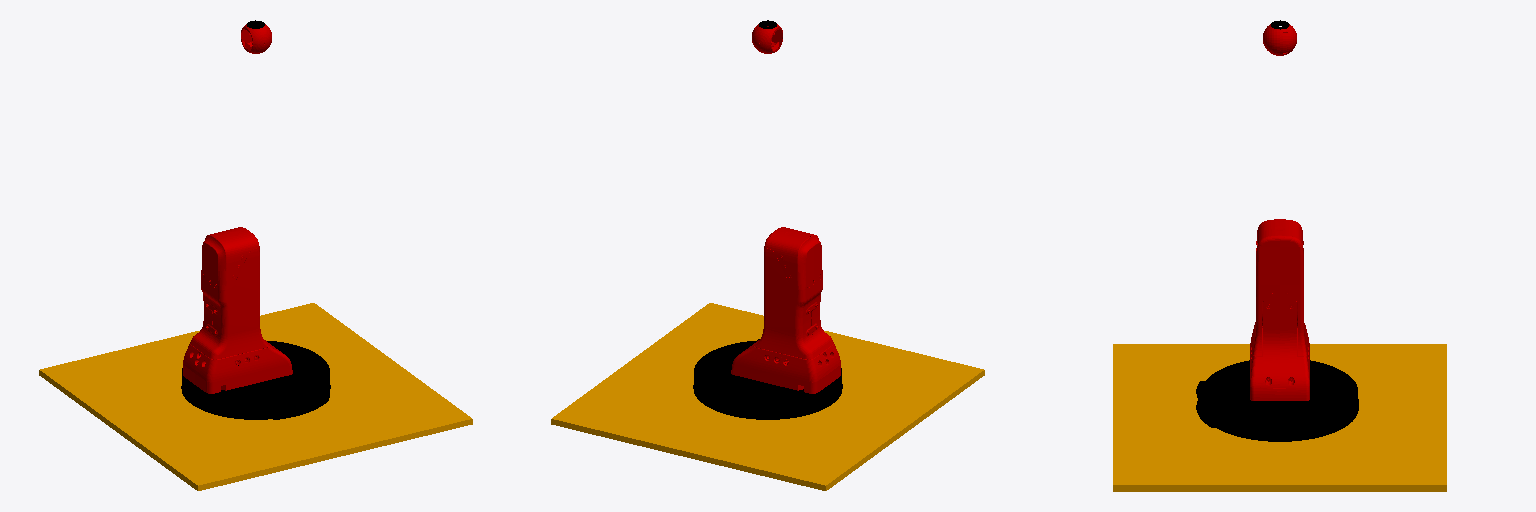
robot.urdf — brabo:
<?xml version="1.0" ?>
<!-- =================================================================================== -->
<!-- |    This document was autogenerated by xacro from brabo.xacro                    | -->
<!-- |    EDITING THIS FILE BY HAND IS NOT RECOMMENDED                                 | -->
<!-- =================================================================================== -->
<robot name="brabo" xmlns:xacro="http://www.ros.org/wiki/xacro">
  <!-- Include materials -->
  <material name="Black">
    <color rgba="0.0 0.0 0.0 1.0"/>
  </material>
  <material name="Red">
    <color rgba="0.8 0.0 0.0 1.0"/>
  </material>
  <material name="White">
    <color rgba="1.0 1.0 1.0 1.0"/>
  </material>
  <!-- BOTTOM FIXED LINK 
This link is the base of the arm in which arm is placed 

-->
  <!-- ///////////////////////////////////////////////////////////////////////////////////////////////////////////////////// -->
  <joint name="bottom_joint" type="fixed">
    <origin rpy="0 0 0" xyz="0 0 0"/>
    <parent link="base_link"/>
    <child link="bottom_link"/>
  </joint>
  <link name="bottom_link">
    <visual>
      <origin rpy="0 0 0" xyz=" 0 0 -0.04"/>
      <geometry>
        <box size="1 1 0.02"/>
      </geometry>
      <material name="Brown"/>
    </visual>
    <collision>
      <origin rpy="0 0 0" xyz=" 0 0 -0.04"/>
      <geometry>
        <box size="1 1 0.02"/>
      </geometry>
    </collision>
    &gt;

  
  </link>
  <gazebo reference="bottom_link">
    <material>Gazebo/White</material>
  </gazebo>
  <!-- ///////////////////////////////////////////////////////////////////////////////////////////////////////////////////// -->
  <!-- BASE LINK -->
  <link name="base_link">
    <visual>
      <origin rpy="0 0 0" xyz="0 0 0"/>
      <!-- rotate PI/2 -->
      <geometry>
        <mesh filename="package://brabo_description/meshes/visual/base_link.dae" scale="0.001 0.001 0.001"/>
      </geometry>
      <material name="Black"/>
    </visual>
    <collision>
      <origin rpy="0 0 0" xyz="0 0 .025"/>
      <!-- rotate PI/2 -->
      <geometry>
        <cylinder length=".04" radius=".300"/>
      </geometry>
    </collision>
    &gt;
	
    <inertial>
      <mass value="1"/>
      <inertia ixx="1.0" ixy="0.0" ixz="0.0" iyy="0.5" iyz="0.0" izz="1.0"/>
    </inertial>
  </link>
  <gazebo reference="base_link">
    <material>Gazebo/White</material>
  </gazebo>
  <joint name="link_1_joint" type="revolute">
    <parent link="base_link"/>
    <child link="link_1"/>
    <origin rpy="0 0 0" xyz="0 0 0"/>
    <axis xyz="0 0 1"/>
    <limit effort="300" lower="-2.96705722222" upper="2.96705722222" velocity="1"/>
    <dynamics damping="50" friction="1"/>
  </joint>
  <!-- ///////////////////////////////////////////////////////////////////////////////////////////////////////////////////// -->
  <!-- LINK 1-->
  <link name="link_1">
    <visual>
      <origin rpy="0 0 0" xyz="0 0 0"/>
      <geometry>
        <mesh filename="package://brabo_description/meshes/visual/Link_01.dae" scale="0.001 0.001 0.001"/>
      </geometry>
      <material name="Red"/>
    </visual>
    <collision>
      <origin rpy="0 0 0" xyz="0 0 0"/>
      <geometry>
        <mesh filename="package://brabo_description/meshes/visual/Link_01.dae" scale="0.001 0.001 0.001"/>
      </geometry>
    </collision>
    <inertial>
      <mass value="1"/>
      <inertia ixx="1.0" ixy="0.0" ixz="0.0" iyy="0.5" iyz="0.0" izz="1.0"/>
    </inertial>
  </link>
  <gazebo reference="link_1">
    <material>Gazebo/Red</material>
  </gazebo>
  <joint name="link_2_joint" type="revolute">
    <parent link="link_1"/>
    <child link="link_2"/>
    <origin rpy="0 -1.570795 0" xyz="0 0 .459797"/>
    <axis xyz="0 0 1"/>
    <limit effort="300" lower="-2.35619449019" upper="2.35619449019" velocity="1"/>
    <dynamics damping="50" friction="1"/>
  </joint>
  <!-- ///////////////////////////////////////////////////////////////////////////////////////////////////////////////////// -->
  <!-- LINK 2 -->
  <link name="link_2">
    <visual>
      <origin rpy="0 1.570795 0" xyz="-0.459797 0 0"/>
      <geometry>
        <mesh filename="package://brabo_description/meshes/visual/Link_02.dae" scale="0.001 0.001 0.001"/>
      </geometry>
      <material name="White"/>
    </visual>
    <collision>
      <origin rpy="0 1.570795 0" xyz="-0.459797 0 0"/>
      <geometry>
        <mesh filename="package://brabo_description/meshes/visual/Link_02.dae" scale="0.001 0.001 0.001"/>
      </geometry>
    </collision>
    <inertial>
      <mass value="1"/>
      <inertia ixx="1.0" ixy="0.0" ixz="0.0" iyy="0.5" iyz="0.0" izz="1.0"/>
    </inertial>
  </link>
  <gazebo reference="link_2">
    <material>Gazebo/White</material>
  </gazebo>
  <joint name="link_3_joint" type="revolute">
    <parent link="link_2"/>
    <child link="link_3"/>
    <origin rpy="0 3.14159 0 " xyz="0.374934 0 0"/>
    <axis xyz="0 0 1"/>
    <limit effort="300" lower="-2.35619449019" upper="2.35619449019" velocity="1"/>
    <dynamics damping="50" friction="1"/>
  </joint>
  <!-- ///////////////////////////////////////////////////////////////////////////////////////////////////////////////////// -->
  <!-- ELBOW ROLL LINK -->
  <link name="link_3">
    <visual>
      <origin rpy="0 -1.570795 0" xyz="0.834731 0 0"/>
      <geometry>
        <mesh filename="package://brabo_description/meshes/visual/Link_03.dae" scale="0.001 0.001 0.001"/>
      </geometry>
      <material name="Black"/>
    </visual>
    <collision>
      <origin rpy="0 -1.570795 0" xyz="0.834731 0 0"/>
      <geometry>
        <mesh filename="package://brabo_description/meshes/visual/Link_03.dae" scale="0.001 0.001 0.001"/>
      </geometry>
    </collision>
    <inertial>
      <mass value="1"/>
      <inertia ixx="1.0" ixy="0.0" ixz="0.0" iyy="0.5" iyz="0.0" izz="1.0"/>
    </inertial>
  </link>
  <gazebo reference="link_3">
    <material>Gazebo/Black</material>
  </gazebo>
  <joint name="link_4_joint" type="revolute">
    <parent link="link_3"/>
    <child link="link_4"/>
    <origin rpy="0 0 0" xyz="-0.375066 0 0"/>
    <axis xyz="0 0 1"/>
    <limit effort="300" lower="-6.28318" upper="6.28318" velocity="1"/>
    <dynamics damping="50" friction="1"/>
  </joint>
  <!-- ///////////////////////////////////////////////////////////////////////////////////////////////////////////////////// -->
  <!-- ELBOW PITCH LINK -->
  <link name="link_4">
    <visual>
      <origin rpy="0 -1.570795 0" xyz="1.209797 0 0"/>
      <geometry>
        <mesh filename="package://brabo_description/meshes/visual/Link_04.dae" scale="0.001 0.001 0.001"/>
      </geometry>
      <material name="Red"/>
    </visual>
    <collision>
      <origin rpy="0 -1.570795 0" xyz="1.209797 0 0"/>
      <geometry>
        <mesh filename="package://brabo_description/meshes/visual/Link_04.dae" scale="0.001 0.001 0.001"/>
      </geometry>
    </collision>
    <inertial>
      <mass value="1"/>
      <inertia ixx="1.0" ixy="0.0" ixz="0.0" iyy="0.5" iyz="0.0" izz="1.0"/>
    </inertial>
  </link>
  <gazebo reference="link_4">
    <material>Gazebo/Red</material>
  </gazebo>
  <joint name="link_5_joint" type="revolute">
    <parent link="link_4"/>
    <child link="link_5"/>
    <origin rpy="0 -1.570795 0" xyz="0 0 0"/>
    <axis xyz="0 0 1"/>
    <limit effort="300" lower="-2.61799387799" upper="2.6128806087" velocity="1"/>
    <dynamics damping="50" friction="1"/>
  </joint>
  <!-- WRIST ROLL LINK -->
  <link name="link_5">
    <visual>
      <origin rpy="0 0 0" xyz="0 0 -1.209797"/>
      <geometry>
        <mesh filename="package://brabo_description/meshes/visual/Link_05.dae" scale="0.001 0.001 0.001"/>
      </geometry>
      <material name="Black"/>
    </visual>
    <collision>
      <origin rpy="0 0 0" xyz="0 0 -1.209797"/>
      <geometry>
        <mesh filename="package://brabo_description/meshes/visual/Link_05.dae" scale="0.001 0.001 0.001"/>
      </geometry>
    </collision>
    <inertial>
      <mass value="1"/>
      <inertia ixx="1.0" ixy="0.0" ixz="0.0" iyy="0.5" iyz="0.0" izz="1.0"/>
    </inertial>
  </link>
  <gazebo reference="link_5">
    <material>Gazebo/Black</material>
  </gazebo>
  <!-- ///////////////////////////////////////////////////////////////////////////////////////////////////////////////////// -->
  <!-- Transmissions for ROS Control -->
  <transmission name="tran1_link_1_joint">
    <type>transmission_interface/SimpleTransmission</type>
    <joint name="link_1_joint">
      <hardwareInterface>hardware_interface/PositionJointInterface</hardwareInterface>
    </joint>
    <actuator name="motor1_link_1_joint">
      <hardwareInterface>hardware_interface/PositionJointInterface</hardwareInterface>
      <mechanicalReduction>1</mechanicalReduction>
    </actuator>
  </transmission>
  <transmission name="tran1_link_2_joint">
    <type>transmission_interface/SimpleTransmission</type>
    <joint name="link_2_joint">
      <hardwareInterface>hardware_interface/PositionJointInterface</hardwareInterface>
    </joint>
    <actuator name="motor1_link_2_joint">
      <hardwareInterface>hardware_interface/PositionJointInterface</hardwareInterface>
      <mechanicalReduction>1</mechanicalReduction>
    </actuator>
  </transmission>
  <transmission name="tran1_link_3_joint">
    <type>transmission_interface/SimpleTransmission</type>
    <joint name="link_3_joint">
      <hardwareInterface>hardware_interface/PositionJointInterface</hardwareInterface>
    </joint>
    <actuator name="motor1_link_3_joint">
      <hardwareInterface>hardware_interface/PositionJointInterface</hardwareInterface>
      <mechanicalReduction>1</mechanicalReduction>
    </actuator>
  </transmission>
  <transmission name="tran1_link_4_joint">
    <type>transmission_interface/SimpleTransmission</type>
    <joint name="link_4_joint">
      <hardwareInterface>hardware_interface/PositionJointInterface</hardwareInterface>
    </joint>
    <actuator name="motor1_link_4_joint">
      <hardwareInterface>hardware_interface/PositionJointInterface</hardwareInterface>
      <mechanicalReduction>1</mechanicalReduction>
    </actuator>
  </transmission>
  <transmission name="tran1_link_5_joint">
    <type>transmission_interface/SimpleTransmission</type>
    <joint name="link_5_joint">
      <hardwareInterface>hardware_interface/PositionJointInterface</hardwareInterface>
    </joint>
    <actuator name="motor1_link_5_joint">
      <hardwareInterface>hardware_interface/PositionJointInterface</hardwareInterface>
      <mechanicalReduction>1</mechanicalReduction>
    </actuator>
  </transmission>
  <!-- Define arm with gripper mounted on a base -->
  <!-- <xacro:base name="base"/> 
  <xacro:arm parent="base"/> 
  <xacro:gripper parent="tool"/> -->
  <!-- ros_control plugin -->
  <gazebo>
    <plugin filename="libgazebo_ros_control.so" name="gazebo_ros_control">
      <robotNamespace>/brabo</robotNamespace>
      <robotSimType>gazebo_ros_control/DefaultRobotHWSim</robotSimType>
      <legacyModeNS>true</legacyModeNS>
    </plugin>
  </gazebo>
</robot>

--- Facts derived from the render (not from the file) ---
3 views of the same robot in one strip: view 1: azimuth 30°, elevation 25°; view 2: azimuth 150°, elevation 25°; view 3: azimuth 270°, elevation 25° (orthographic).
Model brabo with 7 links and 6 joints (5 revolute, 1 fixed), rooted at base_link, posed all joints at 0.
Links seen in each view (by area): view 1: bottom_link, link_1, base_link, link_4; view 2: bottom_link, link_1, base_link, link_4; view 3: bottom_link, link_1, base_link, link_4.
Boxes of the visible links, x1,y1,x2,y2 form: bottom_link: (39,303,472,490); link_1: (183,227,292,393); base_link: (181,341,330,419); link_4: (241,24,271,53); bottom_link: (551,303,984,490); link_1: (731,227,840,393); base_link: (693,339,842,419); link_4: (752,24,782,53); bottom_link: (1113,344,1446,491); link_1: (1250,219,1309,400); base_link: (1196,360,1358,441); link_4: (1263,24,1296,55).
Size in the robot's own frame: 1 by 1 by 1.31 metres.
4 mesh visuals loaded from 6 distinct referenced files (4 Collada DAE); not drawn: 2 (reference not matched to a file when rendering).